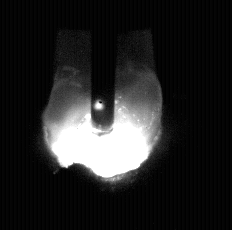arame: (92, 0, 115, 135)
poca: (43, 0, 161, 230)
